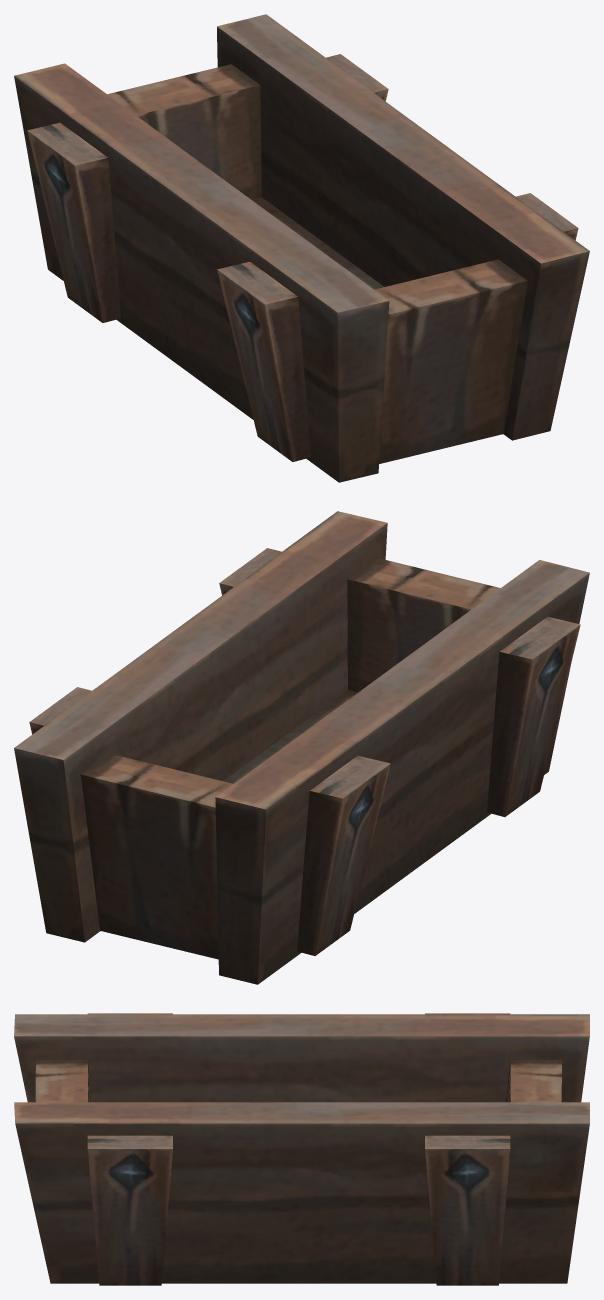
The model's file is mine_trough01.fbx.
The picture shows the model from 3 angles, top to bottom: view 1: azimuth 30°, elevation 25°; view 2: azimuth 150°, elevation 25°; view 3: azimuth 270°, elevation 25°; orthographic projection. The views are drawn at different scales.
Parts seen in each view (by area): view 1: obj0.050; view 2: obj0.050; view 3: obj0.050.
Boxes of the visible parts, x1,y1,x2,y2 form: obj0.050: [14, 14, 589, 482]; obj0.050: [14, 511, 589, 984]; obj0.050: [14, 1013, 589, 1285].
Size of the model in its own units: 1.57 by 0.9084 by 2.81.
